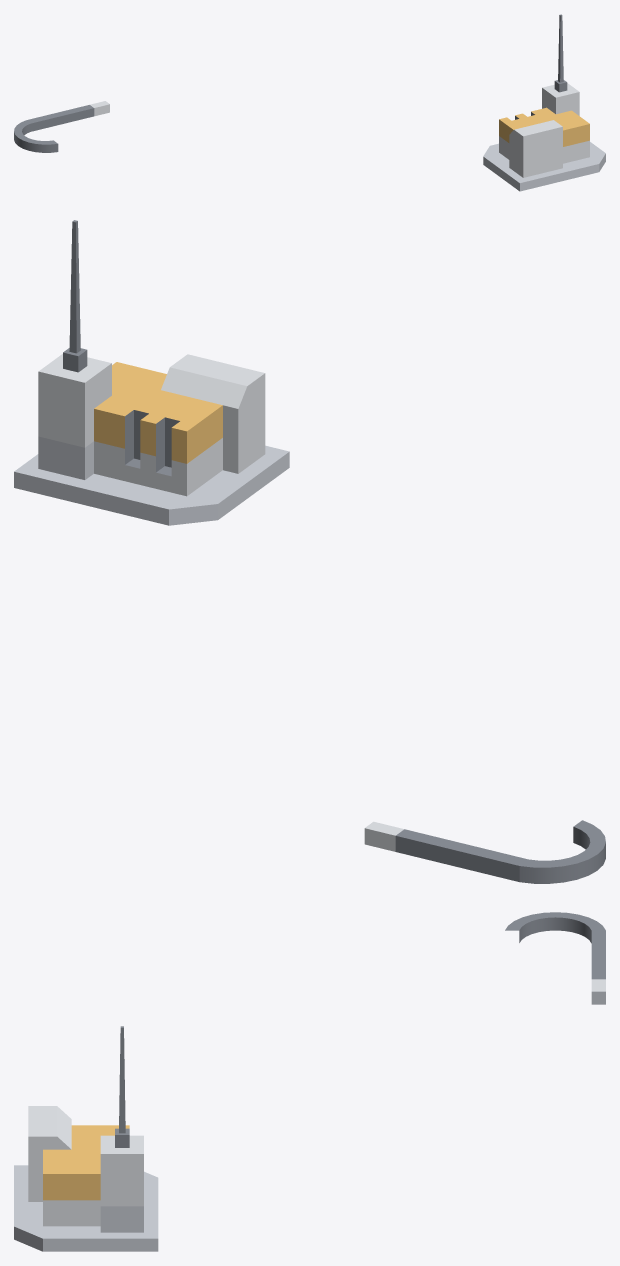
The model's file is machine_wirelessCable.glb.
The picture shows the model from 3 angles, top to bottom: view 1: azimuth 30°, elevation 25°; view 2: azimuth 150°, elevation 25°; view 3: azimuth 270°, elevation 25°; orthographic projection. The views are drawn at different scales.
Parts seen in each view (by area): view 1: machine_wirelessCable, cable.001; view 2: machine_wirelessCable, cable.001; view 3: machine_wirelessCable, cable.001.
Boxes of the visible parts, x1,y1,x2,y2 form: machine_wirelessCable: [483, 14, 605, 191]; cable.001: [14, 101, 109, 152]; machine_wirelessCable: [14, 220, 289, 525]; cable.001: [364, 820, 605, 883]; machine_wirelessCable: [14, 1026, 158, 1251]; cable.001: [505, 912, 605, 1004].
Size of the model in its own units: 2.67 by 0.8 by 2.05.
